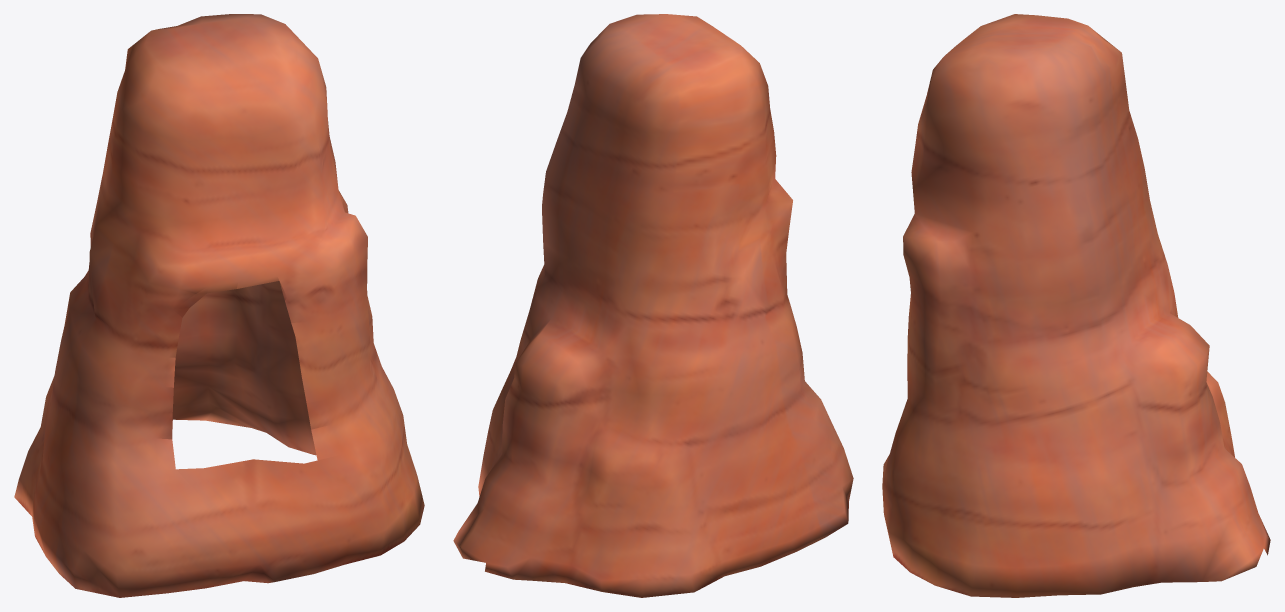
File: canyon_stone_fbx_stone_016_1.fbx
3 views of the same model, side by side, from view 1: azimuth 30°, elevation 25°; view 2: azimuth 150°, elevation 25°; view 3: azimuth 270°, elevation 25° (orthographic). The views are drawn at different scales.
Visible parts, largest first — view 1: canyon_pre_stone_016_1; view 2: canyon_pre_stone_016_1; view 3: canyon_pre_stone_016_1.
Boxes of the visible parts, x1,y1,x2,y2 form: canyon_pre_stone_016_1: (14, 14, 424, 597); canyon_pre_stone_016_1: (453, 14, 853, 597); canyon_pre_stone_016_1: (882, 14, 1270, 597).
Bounding box in the file's own units: 825 × 1157 × 832.
